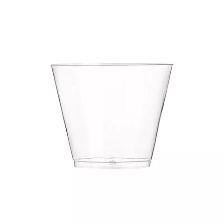glass: (42, 56, 177, 171)
